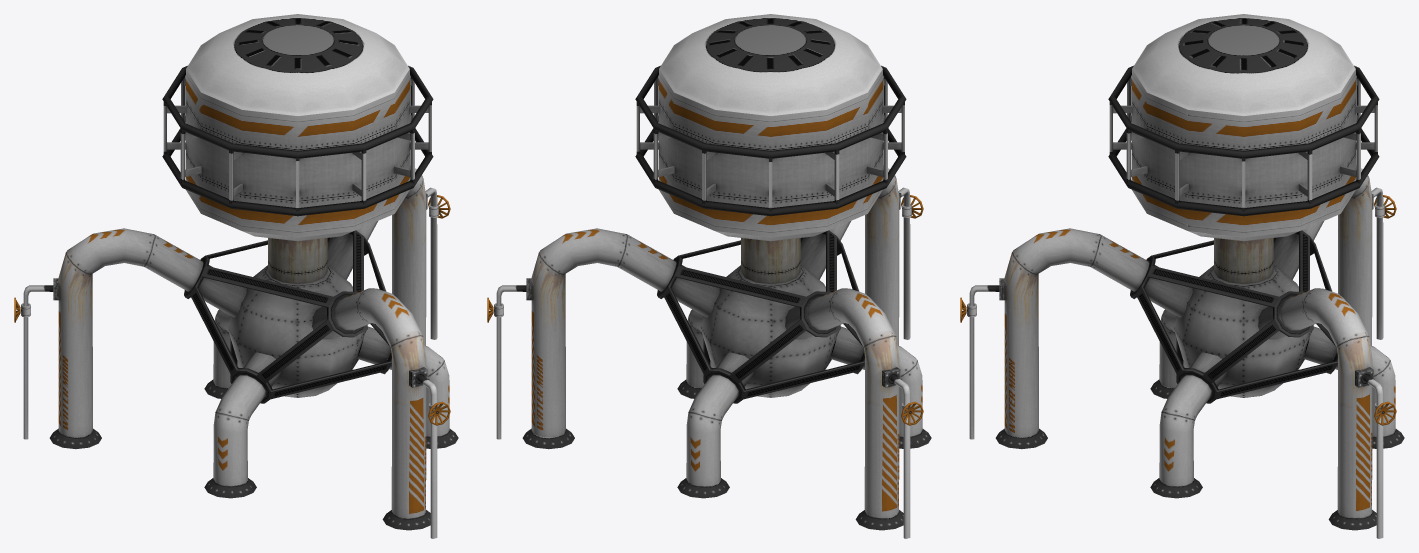
File: water_vap.dae
3 renders of one model, left to right at view 1: azimuth 30°, elevation 25°; view 2: azimuth 150°, elevation 25°; view 3: azimuth 270°, elevation 25°, orthographic.
Parts seen in each view (by area): view 1: water_vap001; view 2: water_vap001; view 3: water_vap001.
Part boxes in pixels (x1,y1,x2,y2): water_vap001: (14,14,458,538); water_vap001: (487,14,931,538); water_vap001: (960,14,1404,538).
Bounding box in the file's own units: 7.61 × 6.72 × 6.64.
Materials: 1 (1 with a texture image).
